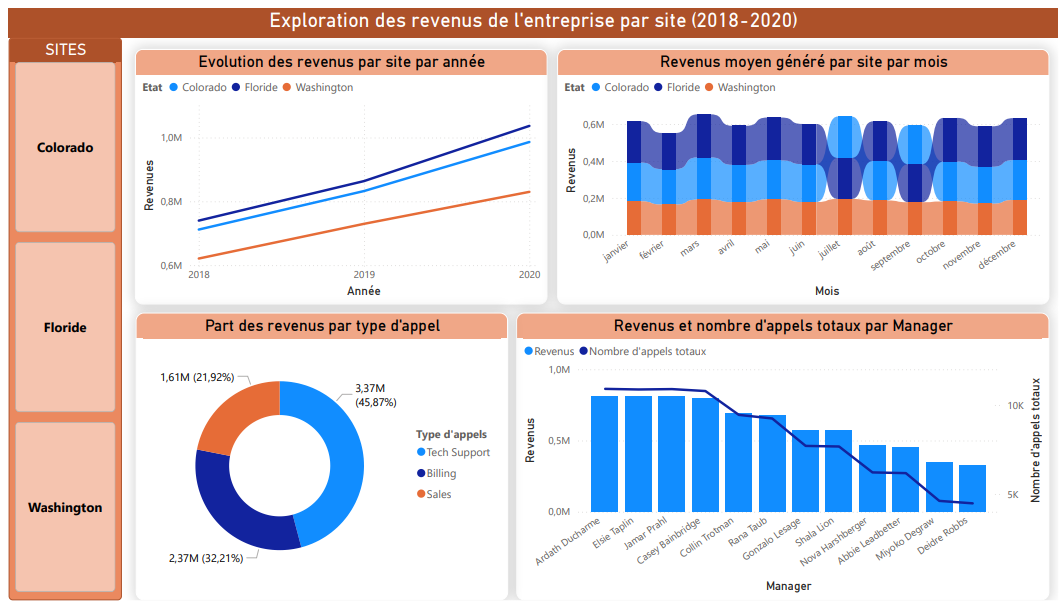

The page's visual inventory and layout, read from the dashboard file:
{"tool":"powerbi","page":{"name":"Revenus","canvas":[1280,720],"ordinal":1},"visuals":[{"type":"textbox","title":"Exploration des revenus de l''entreprise par site (2018-2020)","box":[0,0,1280.3,35.4],"z":0},{"type":"lineChart","title":"Evolution des revenus par site par année","fields":{"Category":["Call Center.Call Timestamp.Variation.Hiérarchie de dates.Année"],"Y":["Call Center.Revenue"],"Series":["Employees.Etat"]},"box":[154.3,48.5,502.6,311],"z":1000},{"type":"advancedSlicerVisual","title":"SITES","fields":{"Values":["Employees.Etat"]},"box":[0,34.8,138.1,685.4],"z":2000},{"type":"ribbonChart","title":"Revenus moyen généré par site par mois","fields":{"Category":["Call Center.Call Timestamp.Variation.Hiérarchie de dates.Mois"],"Y":["Call Center.Revenue"],"Series":["Employees.Etat"]},"box":[669.3,48.5,599.6,311],"z":3000},{"type":"lineClusteredColumnComboChart","title":"Revenus et nombre d''appels totaux par Manager","fields":{"Category":["Employees.Manager Name"],"Y":["Call Center.Revenue"],"Y2":["Call Center.Total Calls"]},"box":[619,369.6,649.7,350.4],"z":4000},{"type":"donutChart","title":"Part des revenus par type d''appel","fields":{"Y":["Call Center.Revenue"],"Category":["Call Charges.Call Type "]},"box":[154.8,369.6,454,350.4],"z":5000}]}

Visuals, with their boxes in screenshot pixels (x1, y1, x2, y2), scaled from the page's 1280x720 canvas onto the 1062x613 screenshot:
"Exploration des revenus de l''entreprise par site (2018-2020)" textbox: <box>0,0,1061,30</box>
"Evolution des revenus par site par année" lineChart: <box>128,41,545,306</box>
"SITES" advancedSlicerVisual: <box>0,30,115,612</box>
"Revenus moyen généré par site par mois" ribbonChart: <box>555,41,1053,306</box>
"Revenus et nombre d''appels totaux par Manager" lineClusteredColumnComboChart: <box>514,315,1053,612</box>
"Part des revenus par type d''appel" donutChart: <box>128,315,505,612</box>
